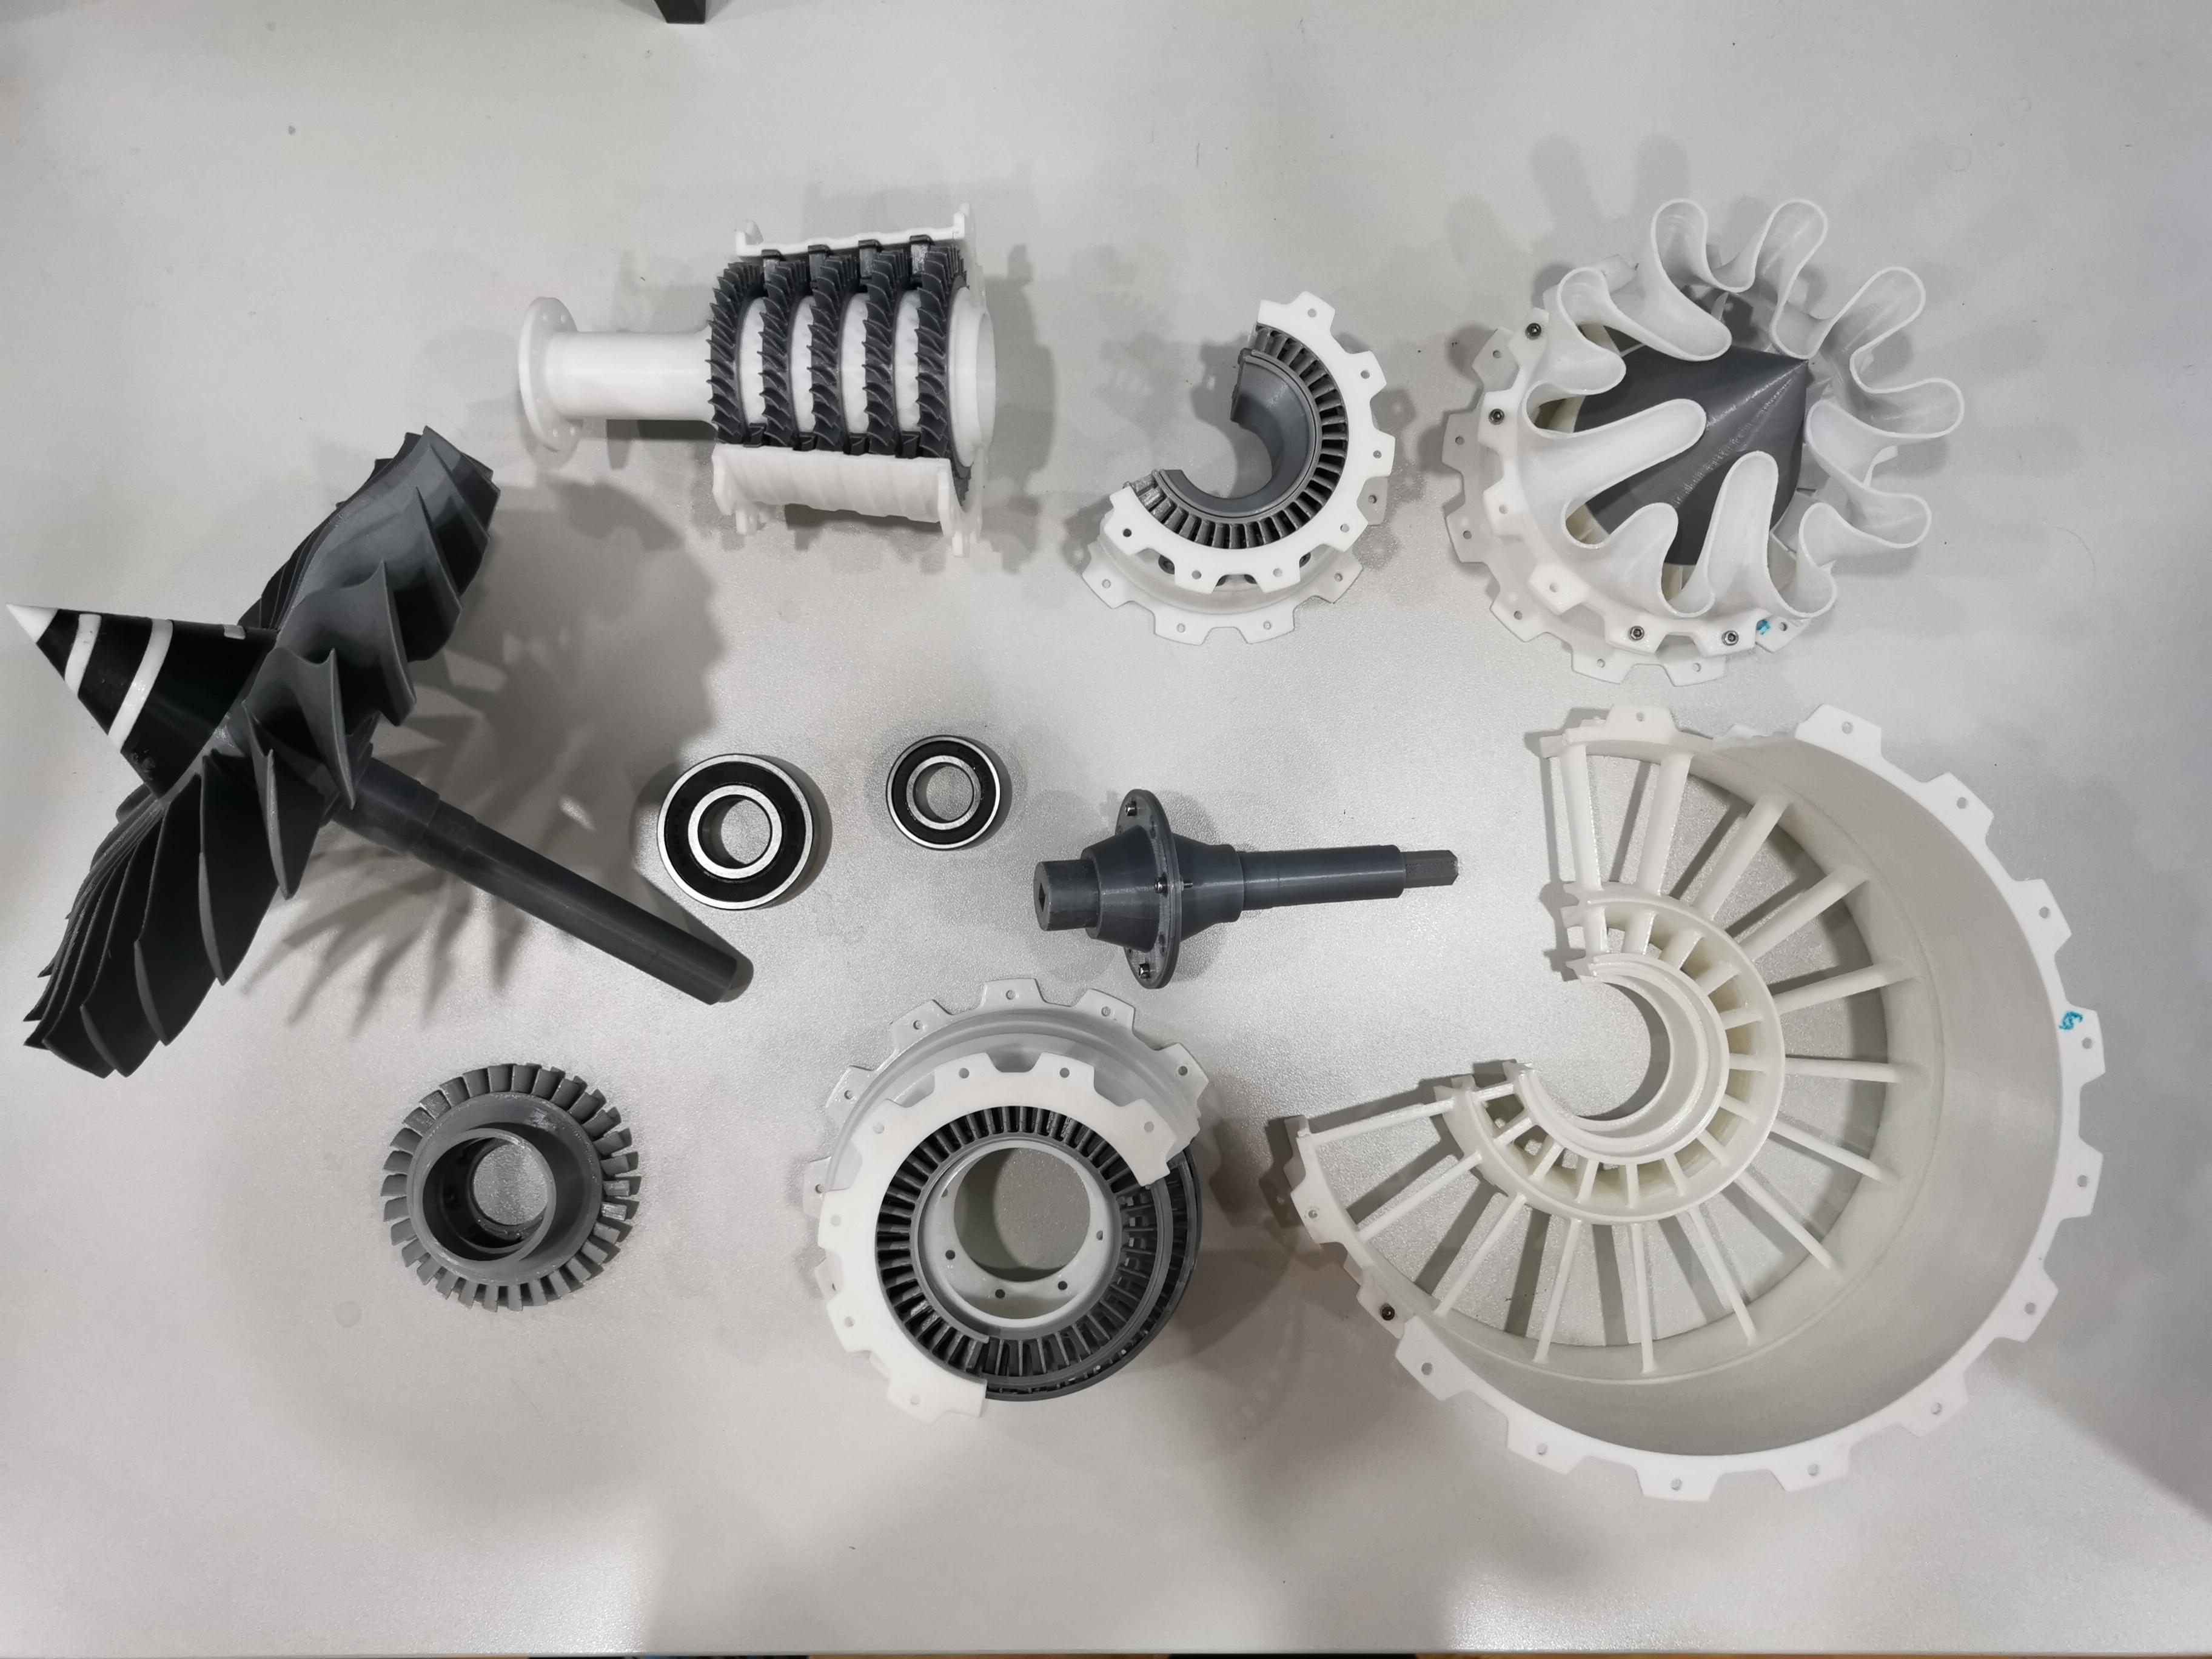Bearing-6003: (866, 713, 1024, 875)
Bearing-6204: (646, 744, 836, 920)
Combustion Section: (1057, 275, 1418, 666)
Fan Casing and Support: (1271, 694, 2116, 1513)
Fan and Low Pressure Shaft: (5, 420, 745, 1089)
HPT Section: (361, 1047, 660, 1326)
High Pressure Spool: (503, 195, 1012, 565)
LPT Section: (782, 964, 1240, 1439)
Low Pressure Spool: (1017, 765, 1463, 999)
Nozzle Section: (1432, 186, 1973, 692)
